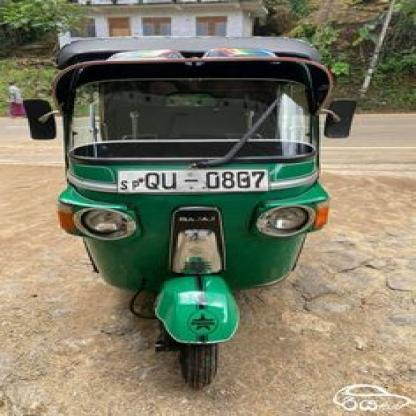number plate: (112, 166, 270, 194)
three wheeler front: (21, 30, 354, 391)
